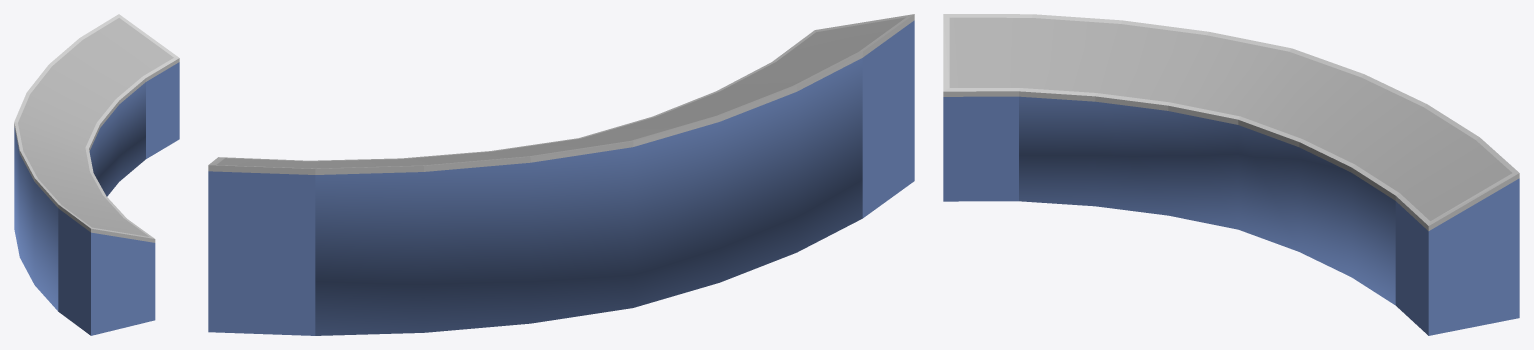
Rendered from BoxCurve.fbx.
3 renders of one model, left to right at view 1: azimuth 30°, elevation 25°; view 2: azimuth 150°, elevation 25°; view 3: azimuth 270°, elevation 25°, orthographic. The views are drawn at different scales.
Parts seen in each view (by area): view 1: CurveBox; view 2: CurveBox; view 3: CurveBox.
Boxes of the visible parts, x1,y1,x2,y2 form: CurveBox: (14, 14, 179, 335); CurveBox: (208, 14, 914, 335); CurveBox: (943, 14, 1519, 335).
Bounding box in the file's own units: 3.05 × 1.17 × 4.19.
